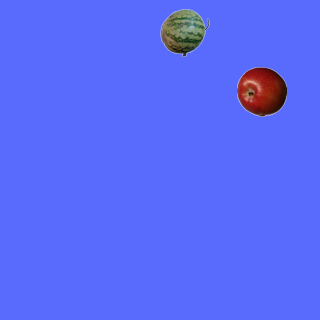Apple Braeburn: (236, 66, 286, 116)
Watermelon: (159, 7, 209, 57)
